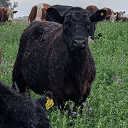vaca: (10, 16, 103, 113), (0, 5, 18, 23), (108, 7, 127, 24)
